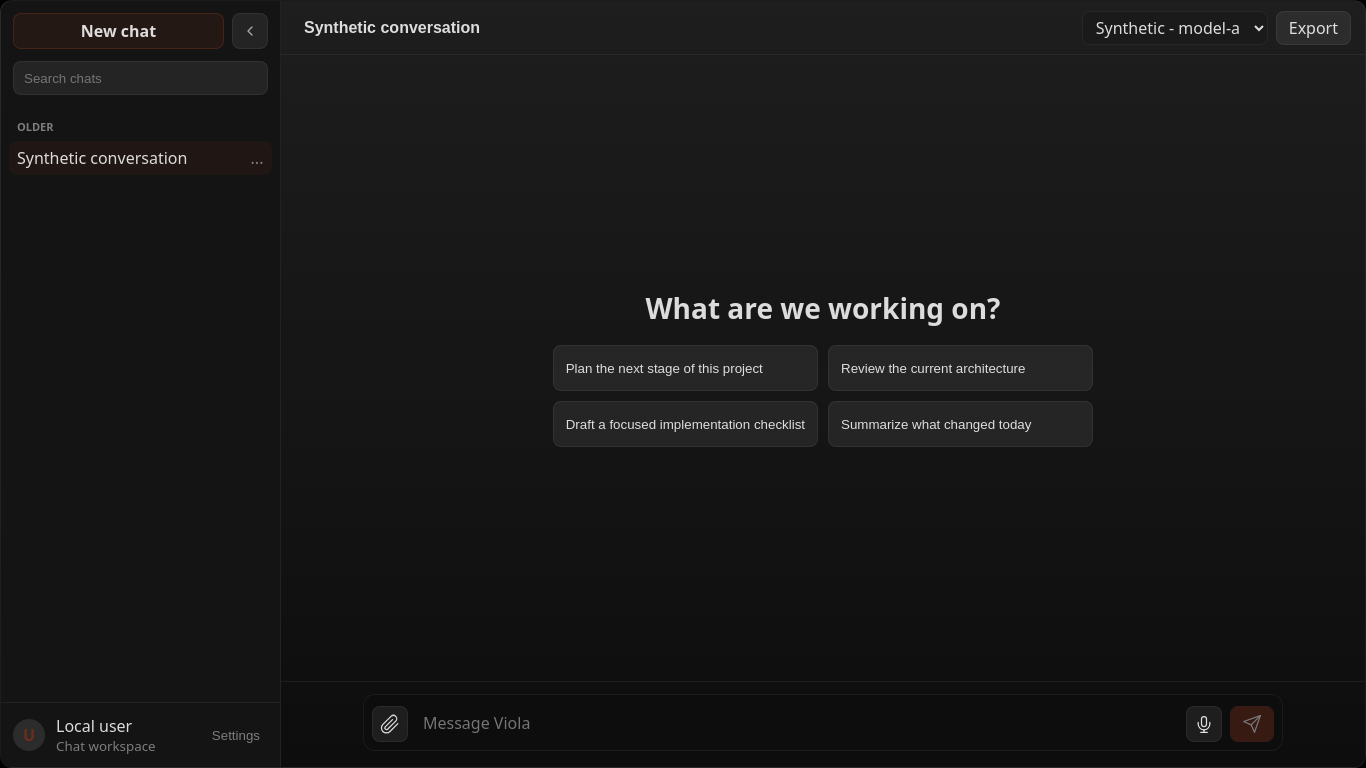
Scenario: Chat model recovery through actual apiFetch › ignores a late timed-out acknowledgement after a newer successful selection
The image size is (1366, 768).
Expected: the field showing "Synthetic conversation" is shown, [295,10,1070,44]
Select "Synthetic - model-b" in the dropdown named "Model": (1175,28) [1082,10,1268,44]
Wait 15000 ms
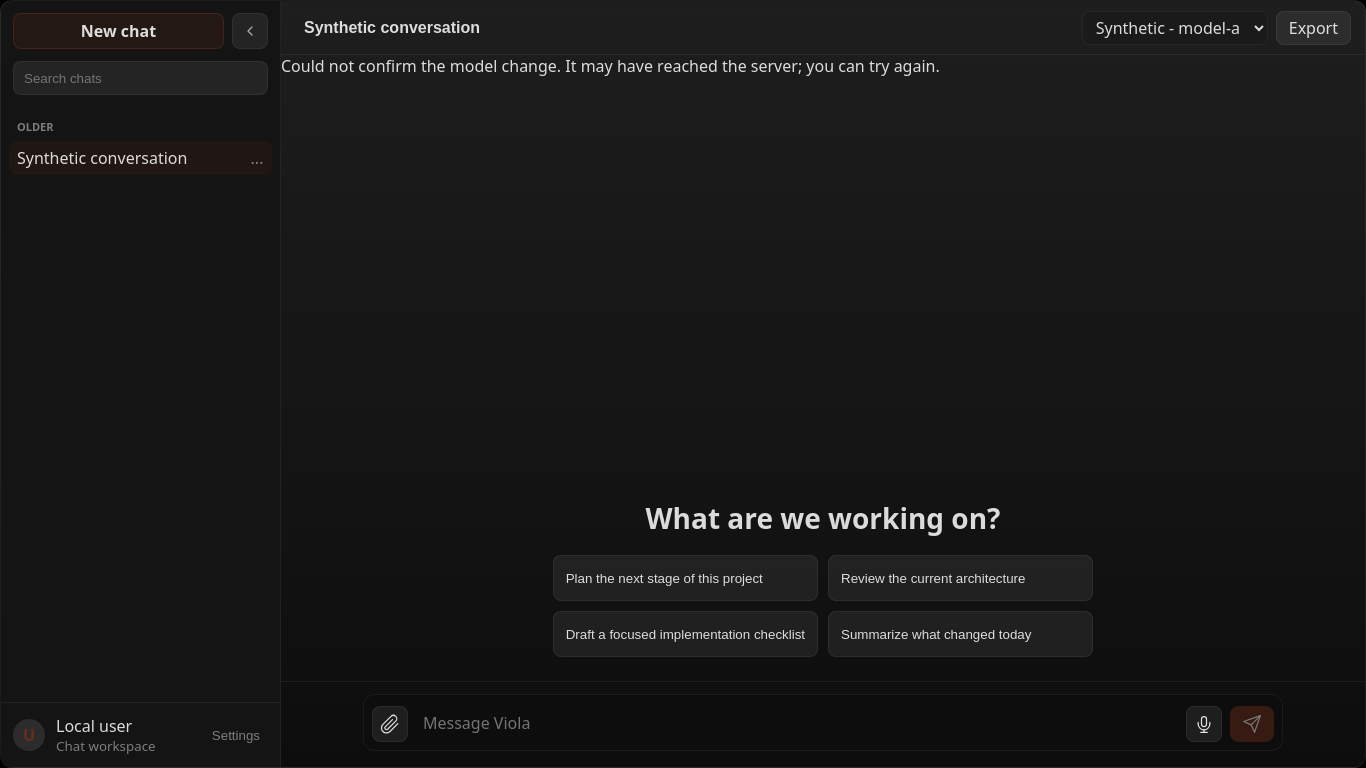
Select "Synthetic - model-c" in the dropdown named "Model": (1175,28) [1082,10,1268,44]
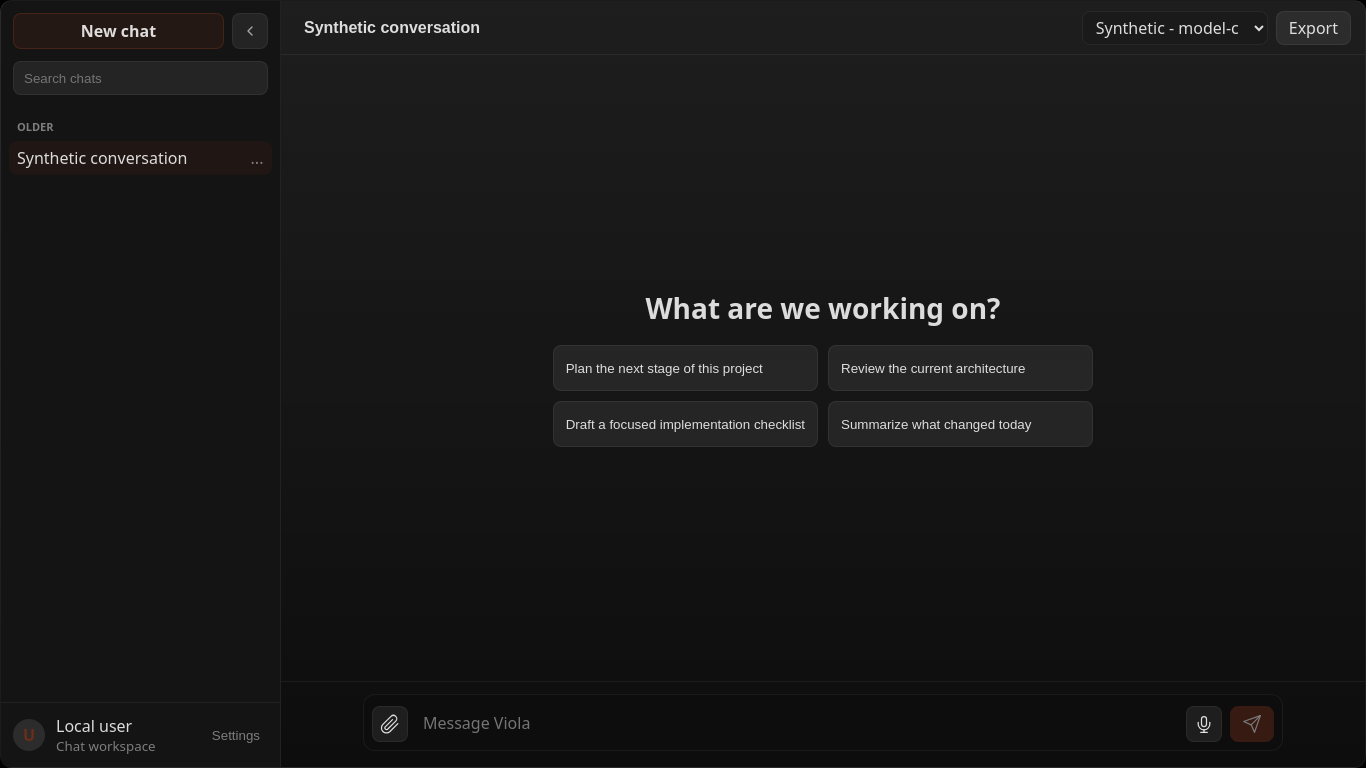
Expected: the message "Could not confirm the model change. It may have reached the server; you can try" is gone
